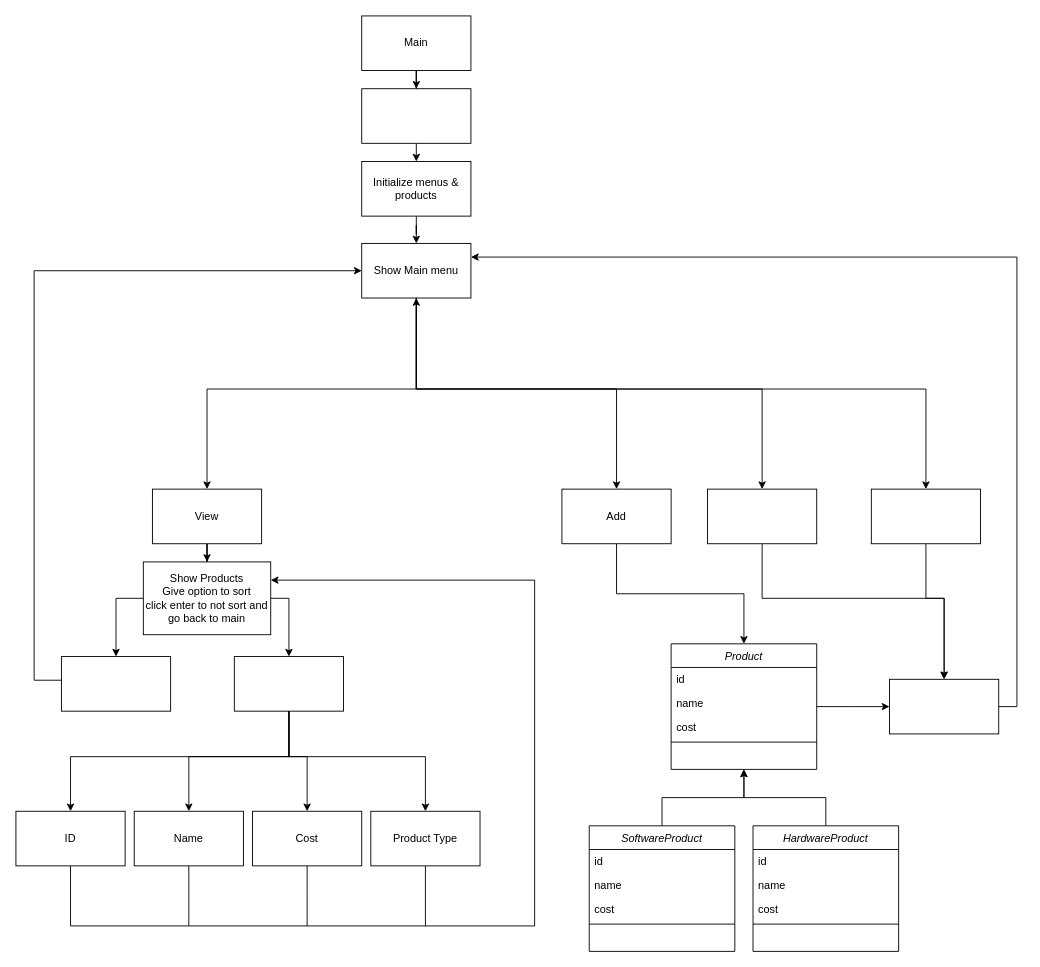
Image size: 1040x967. Some labels were removed from this diagram. Here are the shapes that lost their labels. From the top down, the centre of each, then its label:
(x=416, y=115): ProductManager
(x=762, y=516): Edit
(x=925, y=516): Delete
(x=116, y=683): Return
(x=288, y=683): Sort
(x=944, y=706): ProductRepository
